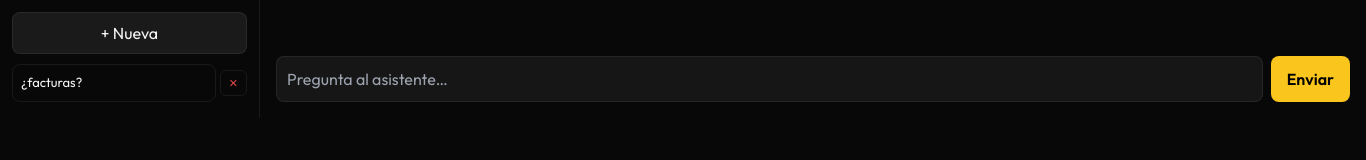
Test: clears the panel when deleting the open conversation
Click the button with test id "conversation-item": (114, 83) [12, 64, 216, 102]
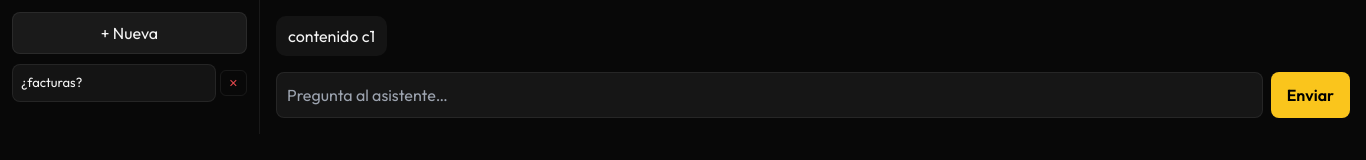
Expected: the text with test id "msg-assistant" reads "contenido c1", [288, 26, 375, 46]
Click the button named "eliminar conversación": (233, 83) [220, 70, 247, 96]
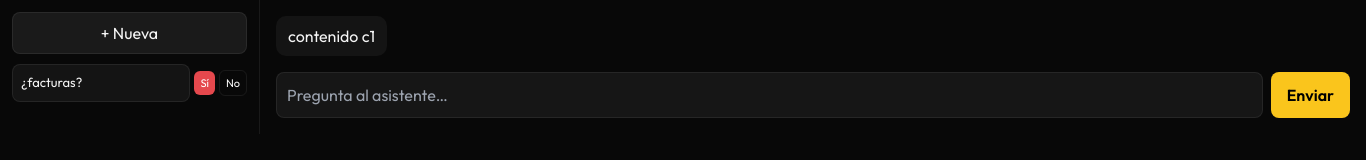
Click the button with aria-label "confirmar borrado": (205, 83) [194, 70, 215, 95]
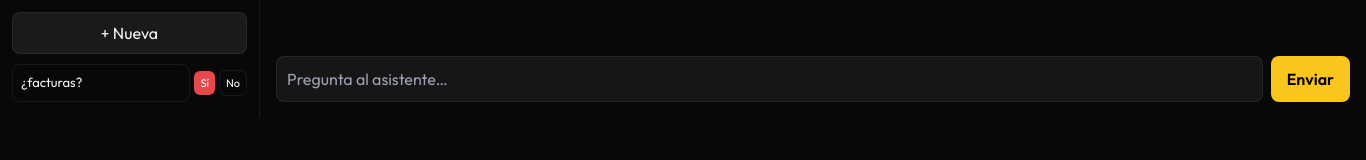
Expected: the text with test id "msg-assistant" is gone
